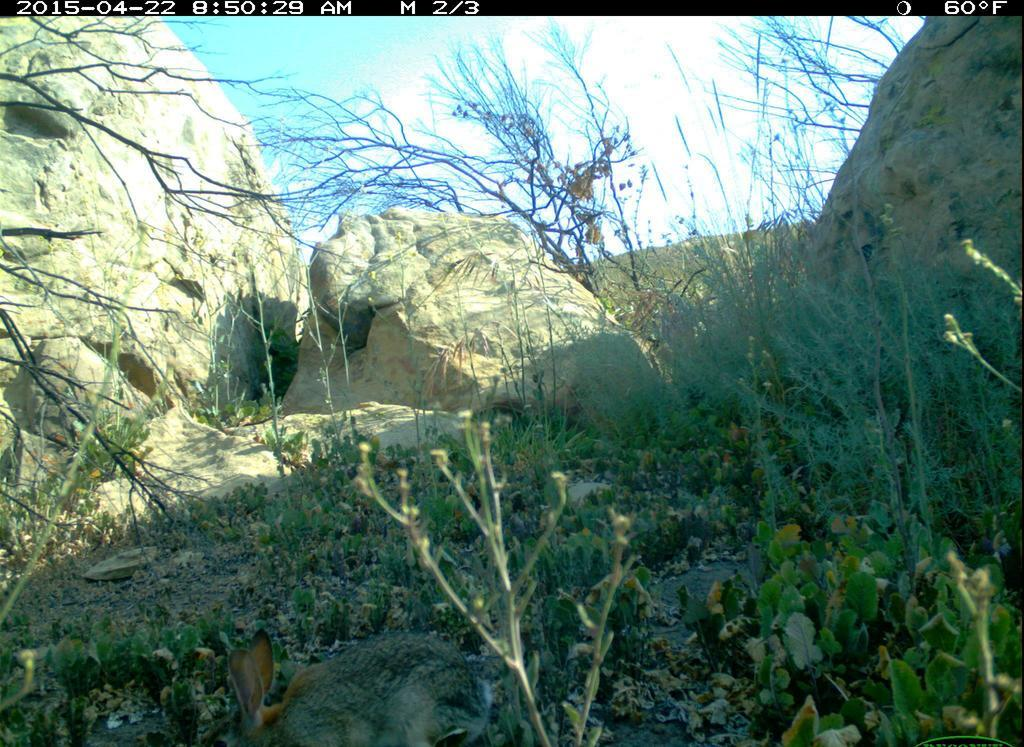rabbit: (221, 620, 497, 747)
